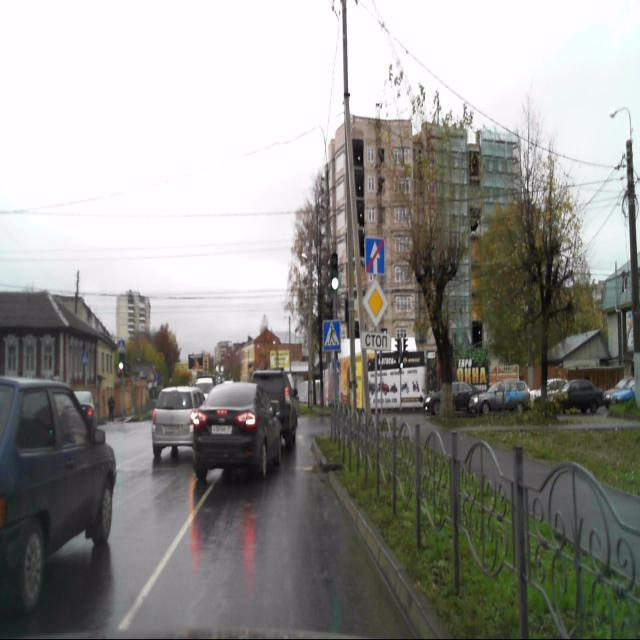road sign: (362, 278, 388, 327), (364, 236, 384, 276), (362, 332, 391, 351), (322, 321, 340, 351)
